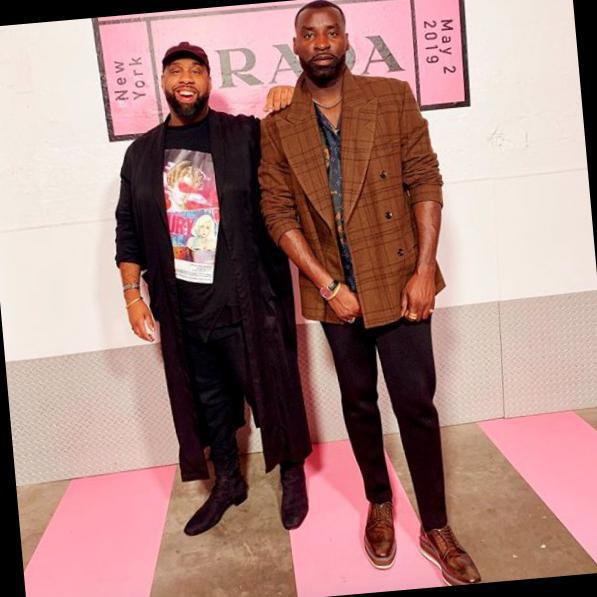Sober: (297, 12, 349, 73), (167, 58, 207, 110)
